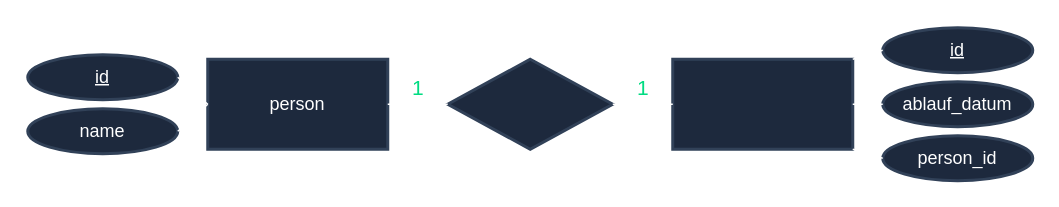
This 1059x207 diagram has some shape labels left out. The shapes that lost their labels are listed below. From the top down, each one's box as (x1, y1, x2, y2) in pixels, then its label:
(446, 57, 614, 150): gehört
(670, 57, 854, 150): personal_ausweis
